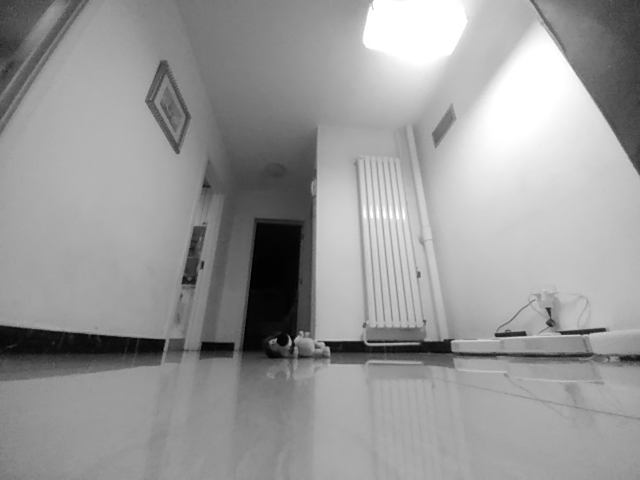toy: (266, 328, 332, 358)
